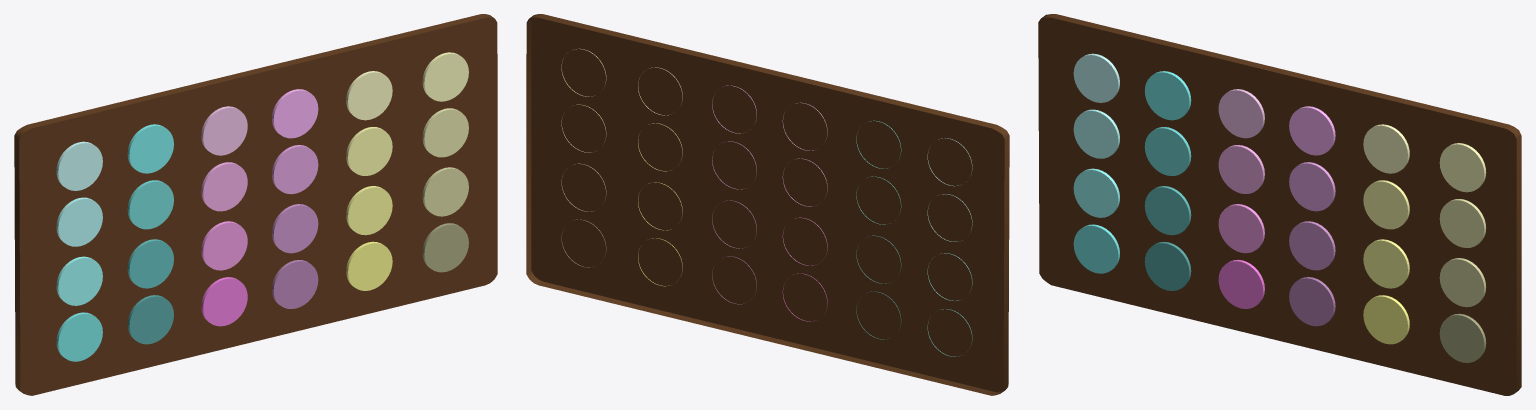
Rendered from CuadroCMWYKColores.glb.
3 views of the same model, side by side, from view 1: azimuth 30°, elevation 25°; view 2: azimuth 150°, elevation 25°; view 3: azimuth 330°, elevation 25° (orthographic).
Visible parts, largest first — view 1: Tablero_Circulos_Colores; view 2: Tablero_Circulos_Colores; view 3: Tablero_Circulos_Colores.
Boxes of the visible parts, left/top/right/bottom form: Tablero_Circulos_Colores: left=14, top=14, right=497, bottom=395; Tablero_Circulos_Colores: left=526, top=14, right=1009, bottom=395; Tablero_Circulos_Colores: left=1038, top=14, right=1521, bottom=395.
Bounding box in the file's own units: 4.66 × 2.49 × 0.1147.
Materials: 2 (1 with a texture image).
